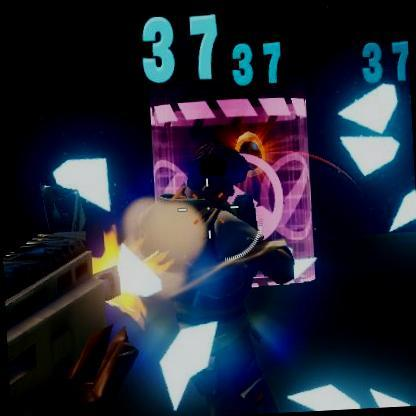person: (151, 156, 278, 408)
